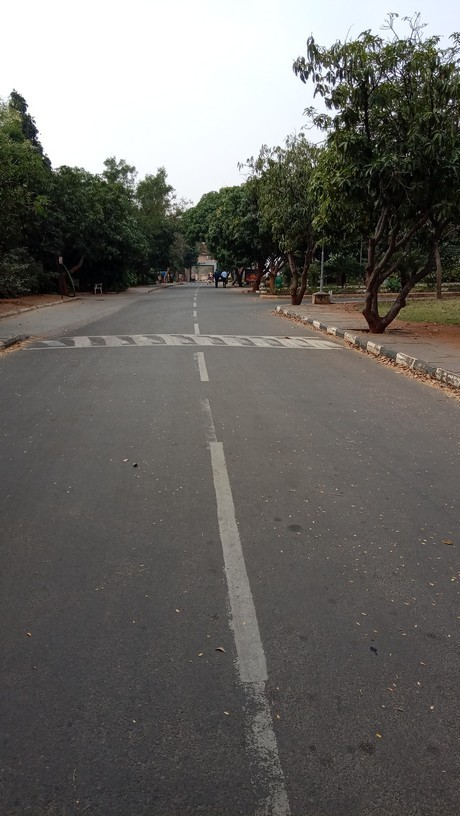bump: (21, 332, 334, 348)
